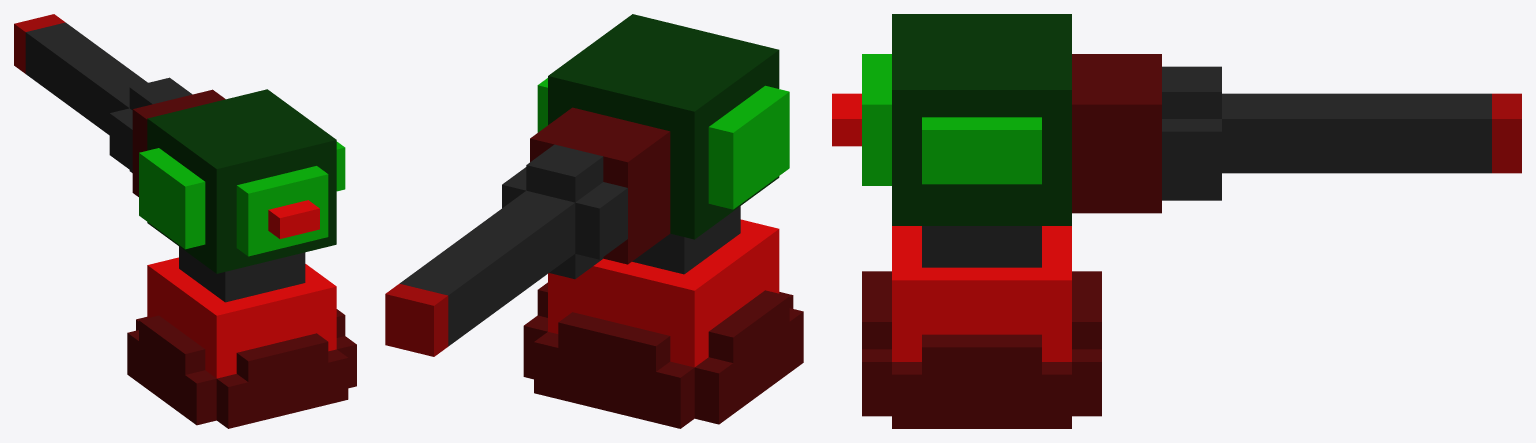
File: basicUpgraded1-0.obj
3 views of the same model, side by side, from view 1: azimuth 30°, elevation 25°; view 2: azimuth 150°, elevation 25°; view 3: azimuth 270°, elevation 25° (orthographic). The views are drawn at different scales.
Bounding box in the file's own units: 0.8 × 1.2 × 2.3.
1 material, 1 textured.
